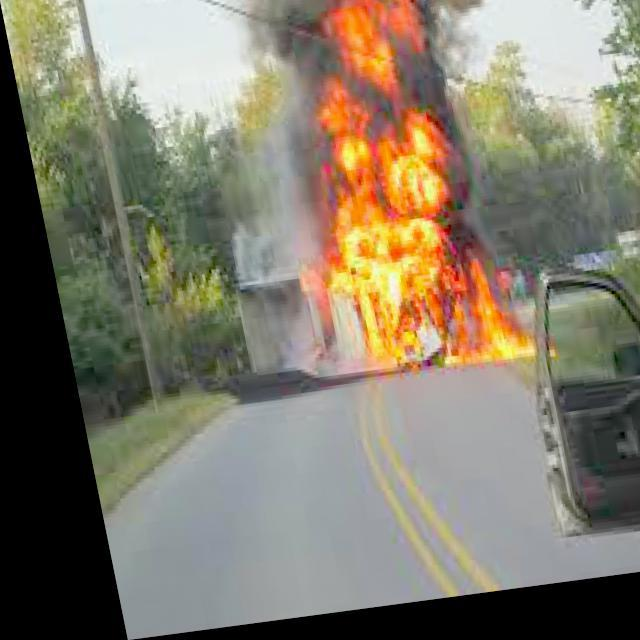Fire: (263, 0, 524, 395)
